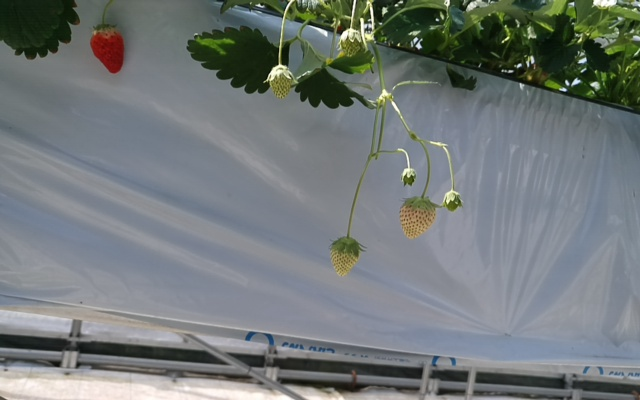GreenStrawberry: (397, 195, 440, 240), (327, 232, 361, 280), (265, 64, 294, 102), (339, 28, 362, 58)
MatureStrawberry: (88, 25, 127, 77)
